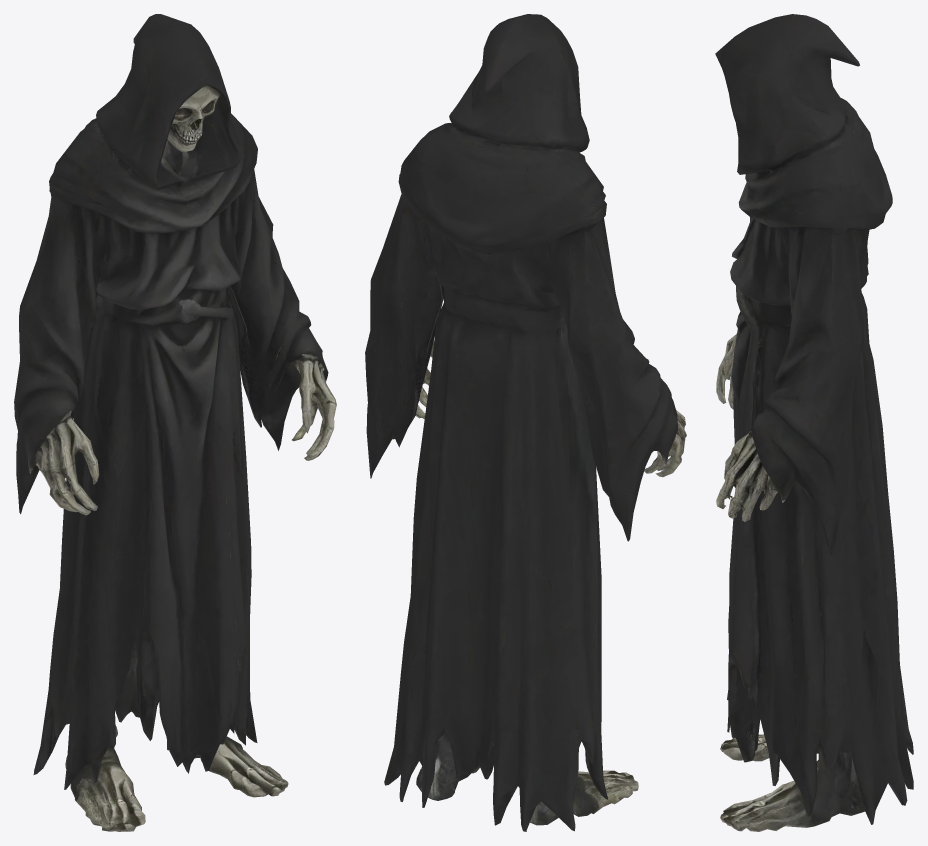
File: enm-spitter.glb
3 renders of one model, left to right at view 1: azimuth 30°, elevation 25°; view 2: azimuth 150°, elevation 25°; view 3: azimuth 270°, elevation 25°, orthographic.
Size of the model in its own units: 0.7137 by 1.8 by 0.4188.
Materials: 1 (1 with a texture image).
